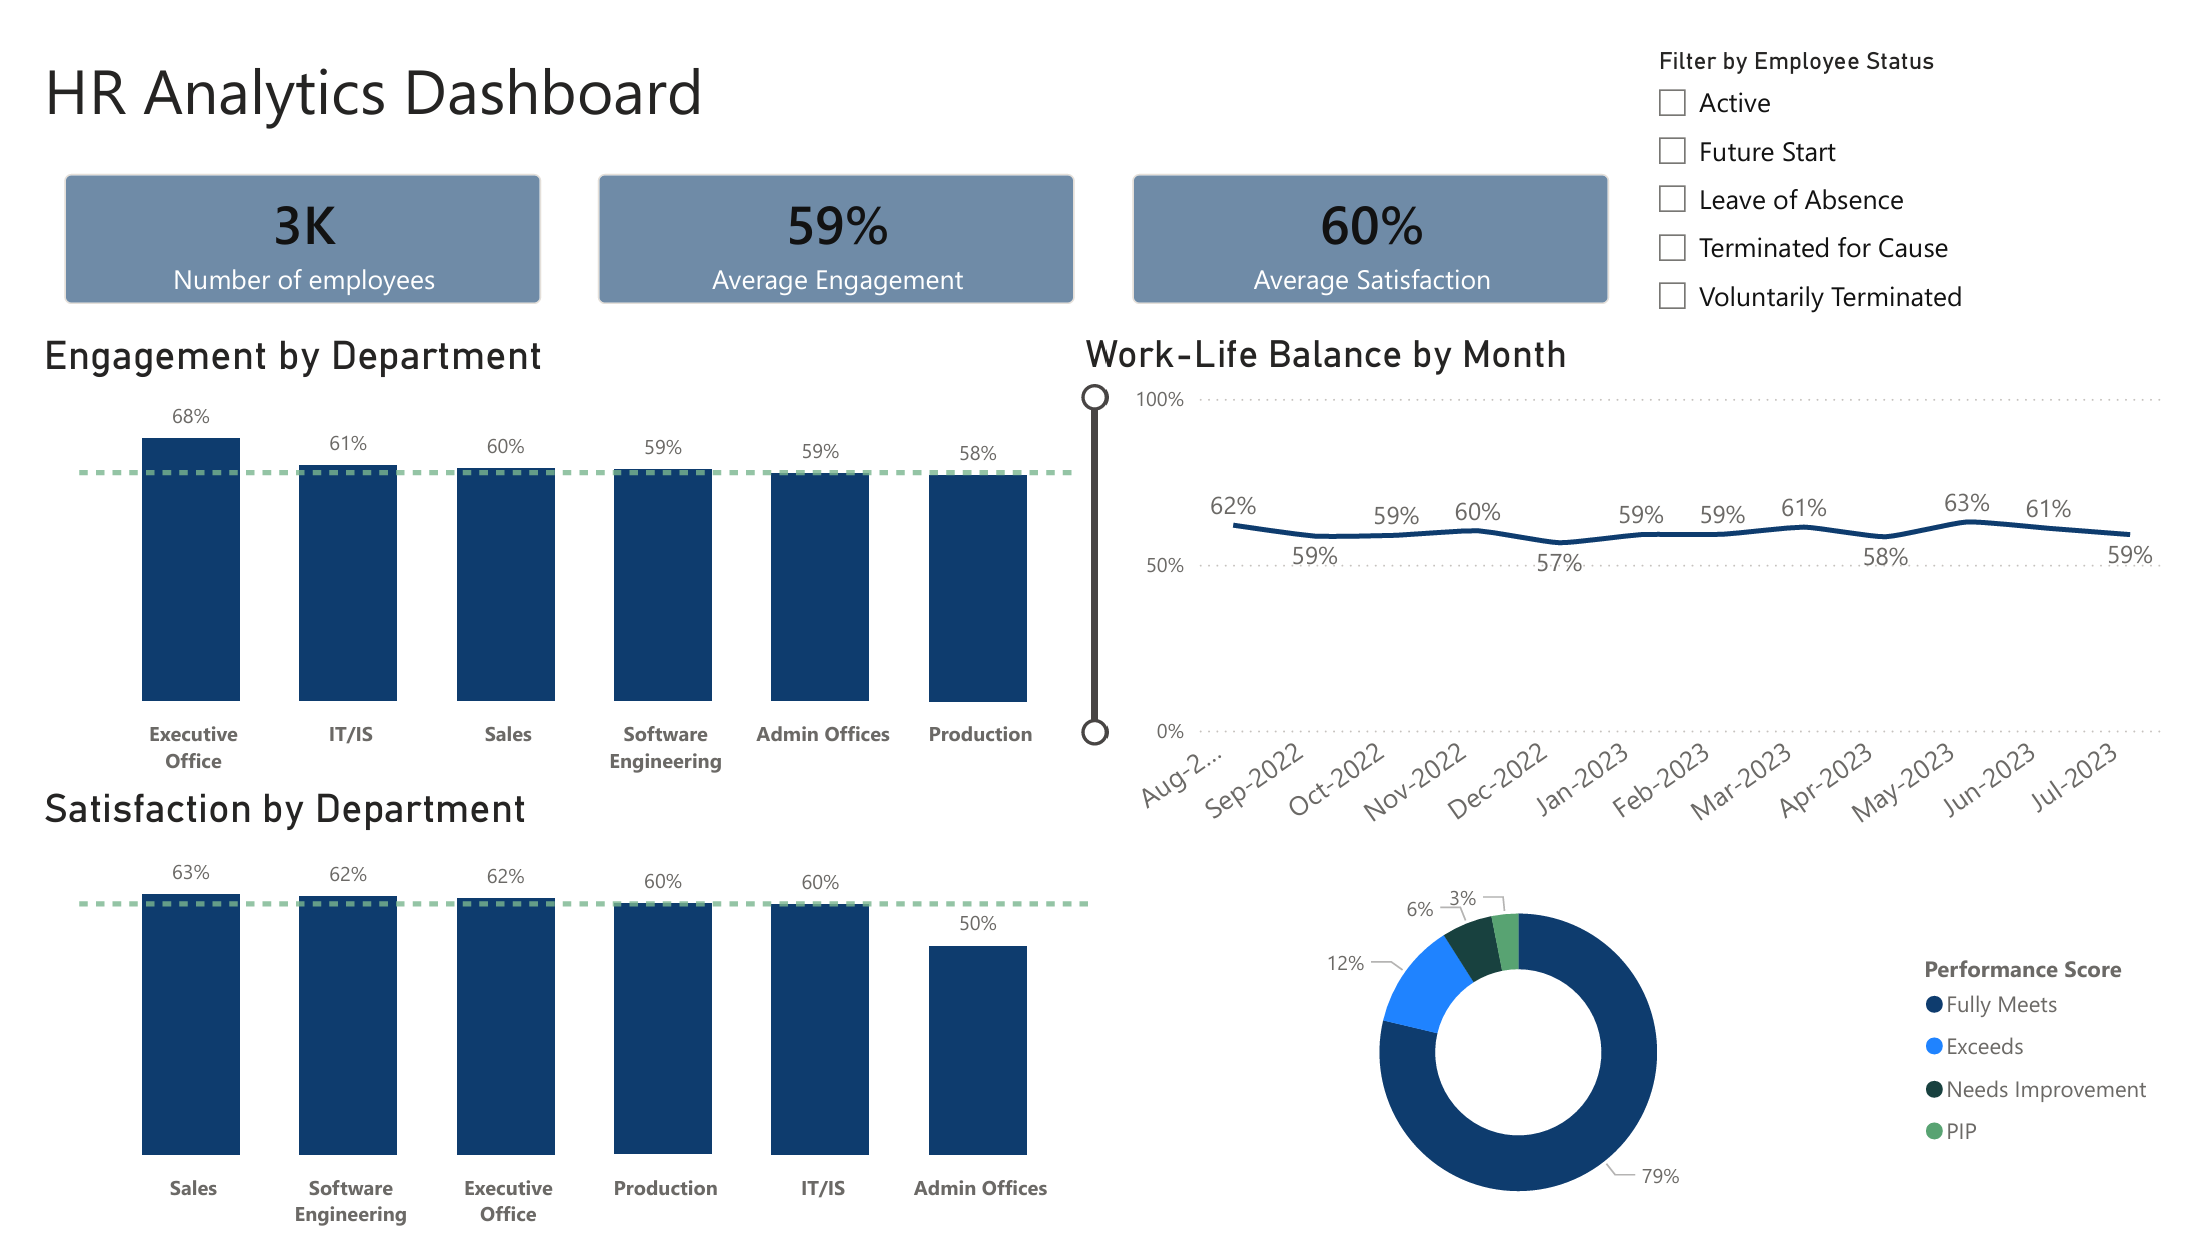

The page's visual inventory and layout, read from the dashboard file:
{"tool":"powerbi","page":{"name":"Dashboard ","canvas":[1280,720],"ordinal":7},"visuals":[{"type":"cardVisual","title":"Employees in a survey","fields":{"Data":["CountNonNull(employee_engagement_survey_data.EmpID)"]},"box":[0,64,320,112],"z":0},{"type":"cardVisual","fields":{"Data":["employee_engagement_survey_data.% AverageEngagement"]},"box":[320,64,320,112],"z":1000},{"type":"cardVisual","fields":{"Data":["employee_engagement_survey_data.% AverageSatisfaction"]},"box":[640,64,320,112],"z":2000},{"type":"clusteredColumnChart","title":"Engagement by Department","fields":{"Category":["employee_data.DepartmentType"],"Y":["employee_engagement_survey_data.% AverageEngagement"]},"box":[0,176,640,272],"z":3000},{"type":"clusteredColumnChart","title":"Satisfaction by Department","fields":{"Category":["employee_data.DepartmentType"],"Y":["employee_engagement_survey_data.% of satisfaction"]},"box":[0,448,640,272],"z":4000},{"type":"lineChart","title":"Work-Life Balance by Month","fields":{"Y":["employee_engagement_survey_data.% Average WL Balance"],"Category":["Calendar.MonthYear"]},"box":[624,176,656,320],"z":5000},{"type":"donutChart","fields":{"Category":["employee_data.Performance Score"],"Y":["CountNonNull(employee_data.Performance Score)"]},"box":[640,496,640,224],"z":6000},{"type":"slicer","fields":{"Values":["employee_data.EmployeeStatus"]},"box":[960,0,320,176],"z":7000},{"type":"textbox","box":[0,0,576,64],"z":8000}]}

Visuals, with their boxes in screenshot pixels (x1, y1, x2, y2), scaled from the page's 1280x720 canvas onto the 2204x1244 screenshot:
"Employees in a survey" cardVisual: bbox(0, 111, 551, 304)
cardVisual - employee_engagement_survey_data.% AverageEngagement: bbox(551, 111, 1102, 304)
cardVisual - employee_engagement_survey_data.% AverageSatisfaction: bbox(1102, 111, 1653, 304)
"Engagement by Department" clusteredColumnChart: bbox(0, 304, 1102, 774)
"Satisfaction by Department" clusteredColumnChart: bbox(0, 774, 1102, 1243)
"Work-Life Balance by Month" lineChart: bbox(1074, 304, 2203, 857)
donutChart - employee_data.Performance Score x CountNonNull(employee_data.Performance Score): bbox(1102, 857, 2203, 1243)
slicer - employee_data.EmployeeStatus: bbox(1653, 0, 2203, 304)
textbox: bbox(0, 0, 992, 111)
